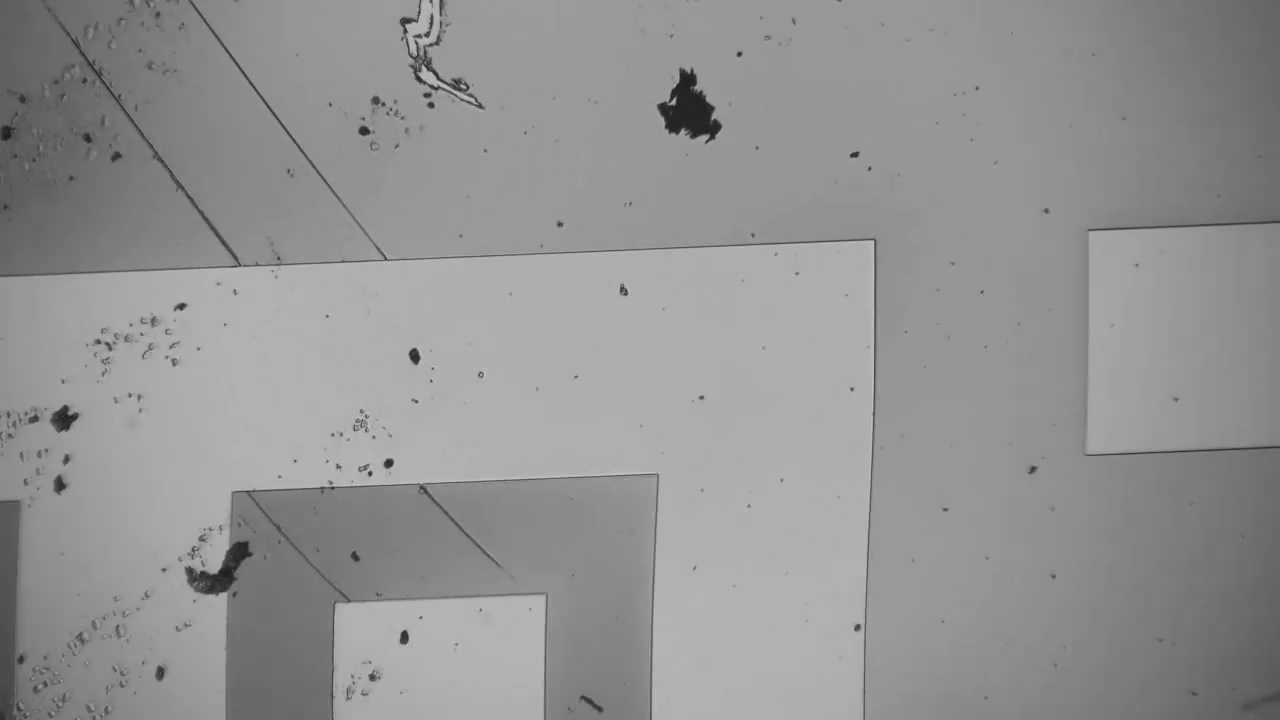scratch: (43, 0, 249, 269), (185, 0, 379, 257), (400, 487, 526, 592), (241, 491, 340, 597)
